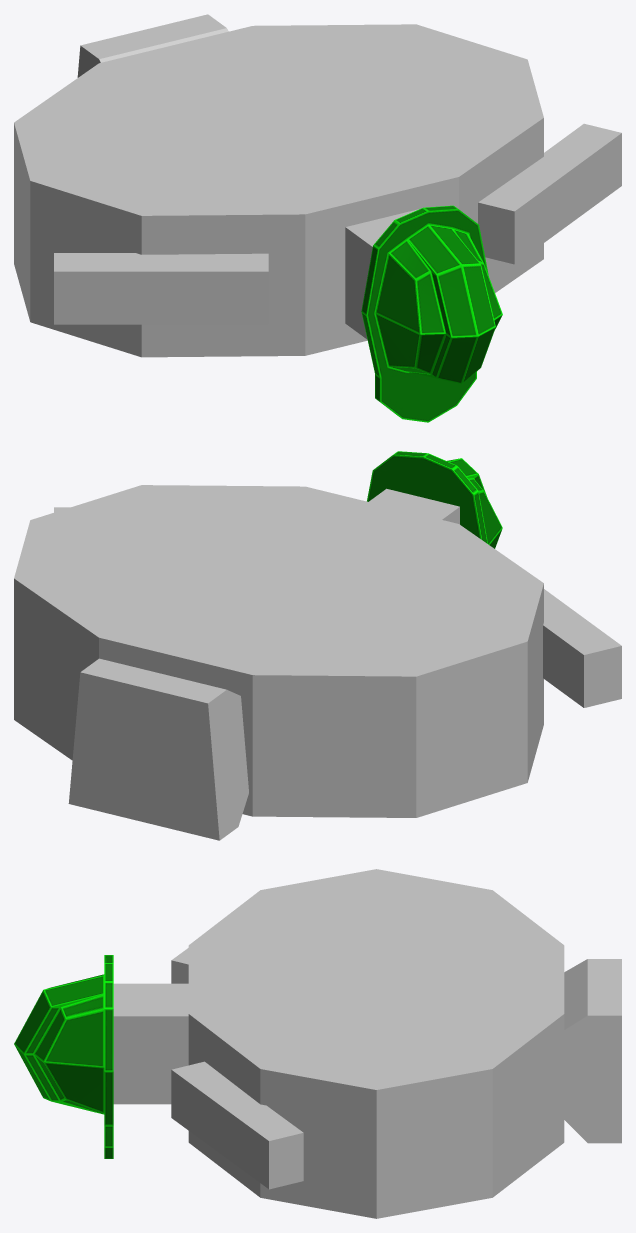
Rendered from Biggie.obj.
3 views of the same model, one above another, from view 1: azimuth 30°, elevation 25°; view 2: azimuth 150°, elevation 25°; view 3: azimuth 270°, elevation 25° (orthographic). The views are drawn at different scales.
Parts seen in each view (by area): view 1: polySurface45; view 2: polySurface45; view 3: polySurface45.
Part boxes in pixels (x1,y1,x2,y2): polySurface45: (14, 14, 621, 422); polySurface45: (14, 451, 621, 840); polySurface45: (14, 869, 621, 1218).
Bounding box in the file's own units: 6.72 × 2.39 × 6.84.
